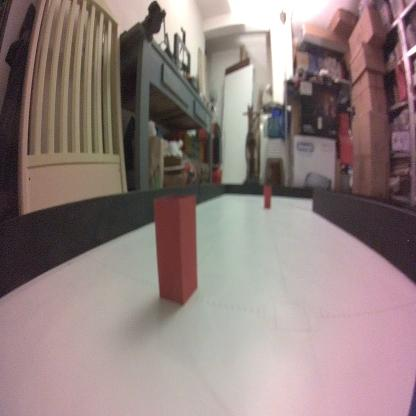red: (152, 194, 198, 308), (264, 183, 271, 210)
